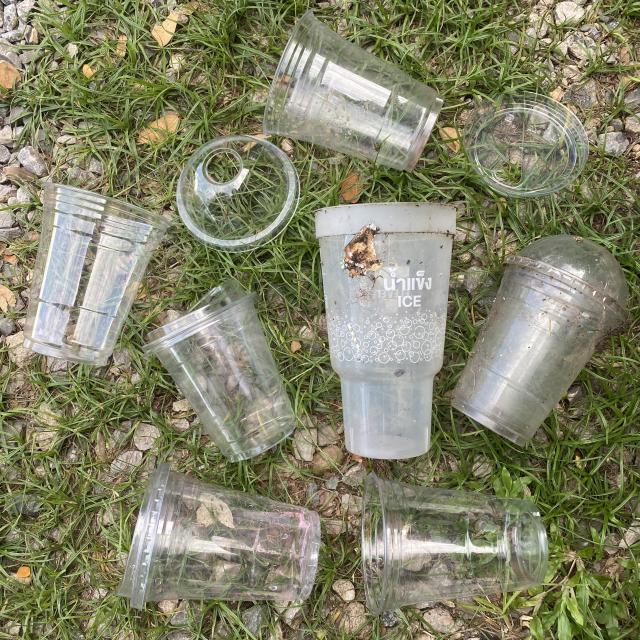plastik: (451, 235, 629, 446), (315, 202, 456, 459), (116, 464, 320, 609), (264, 11, 442, 171), (142, 280, 295, 462), (361, 474, 549, 616), (24, 184, 170, 365), (176, 135, 300, 252), (462, 91, 589, 198)
